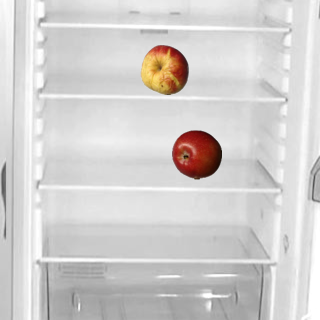Apple Braeburn: (171, 129, 221, 179)
Apple Red Yellow 1: (139, 44, 189, 94)
